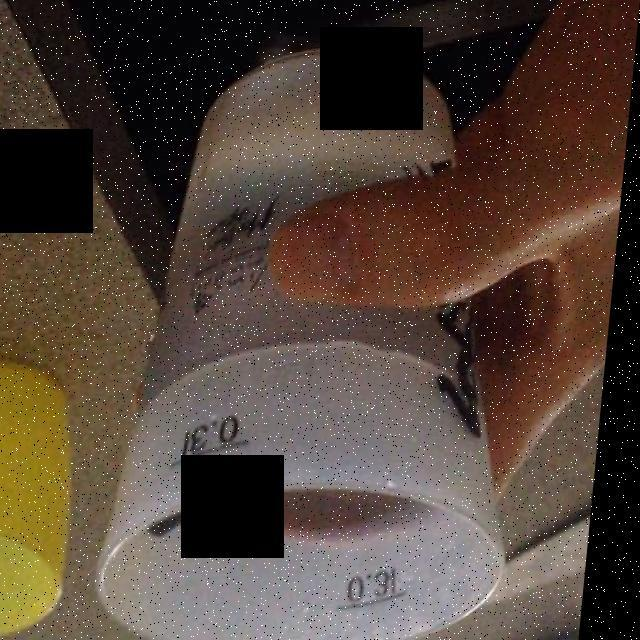water: (148, 59, 486, 413)
